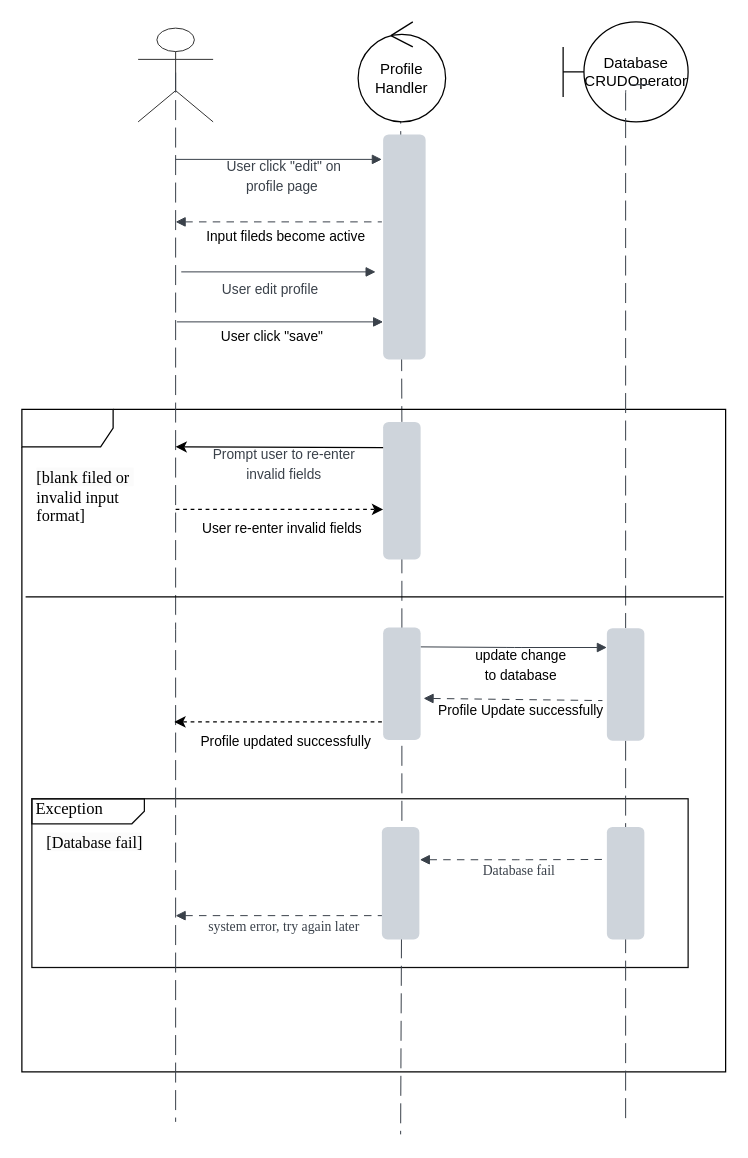
Some shapes in this 748 by 1158 pixel diagram are drawn without their labels. The shapes that lost their labels are listed below. From the top down, each one's box as (x1, y1, x2, y2) in pixels, then its label:
(137, 27, 213, 122): Actor
(21, 408, 726, 1072): Loop
